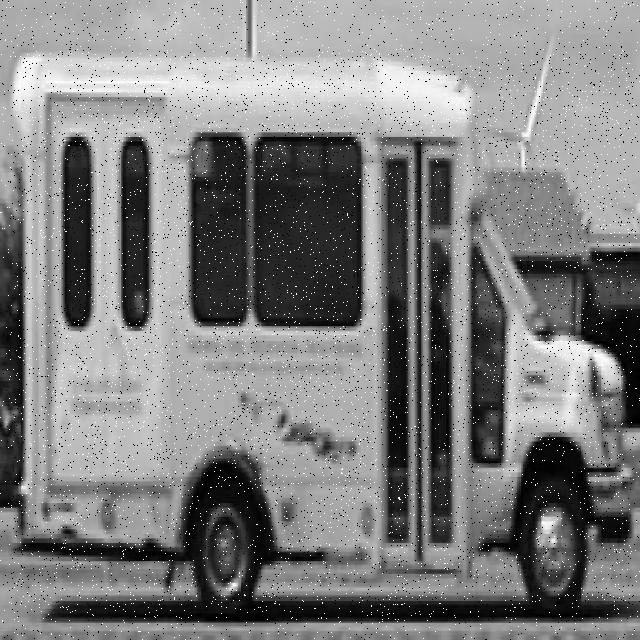Bus- Small: (8, 50, 634, 621)
